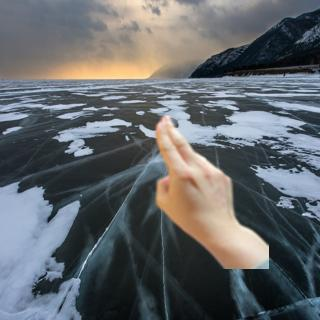DHAVE: (144, 107, 243, 240)
